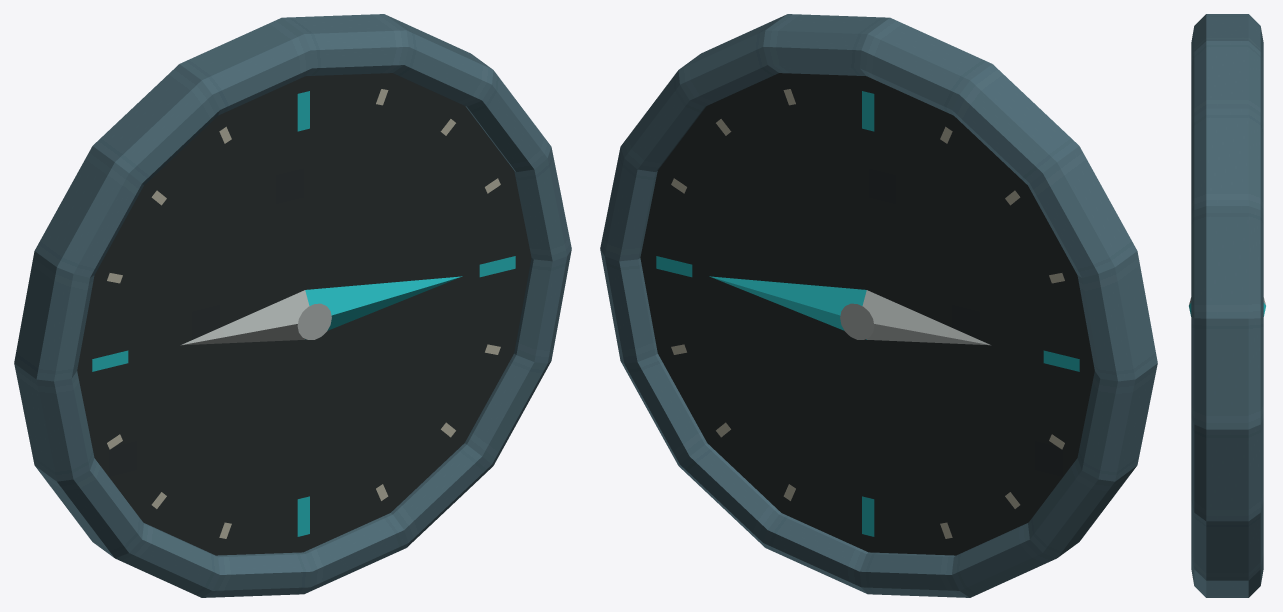
File: recovery_compass_24.obj
3 views of the same model, side by side, from view 1: azimuth 30°, elevation 25°; view 2: azimuth 150°, elevation 25°; view 3: azimuth 270°, elevation 25° (orthographic). The views are drawn at different scales.
Bounding box in the file's own units: 0.6037 × 0.6037 × 0.085.
